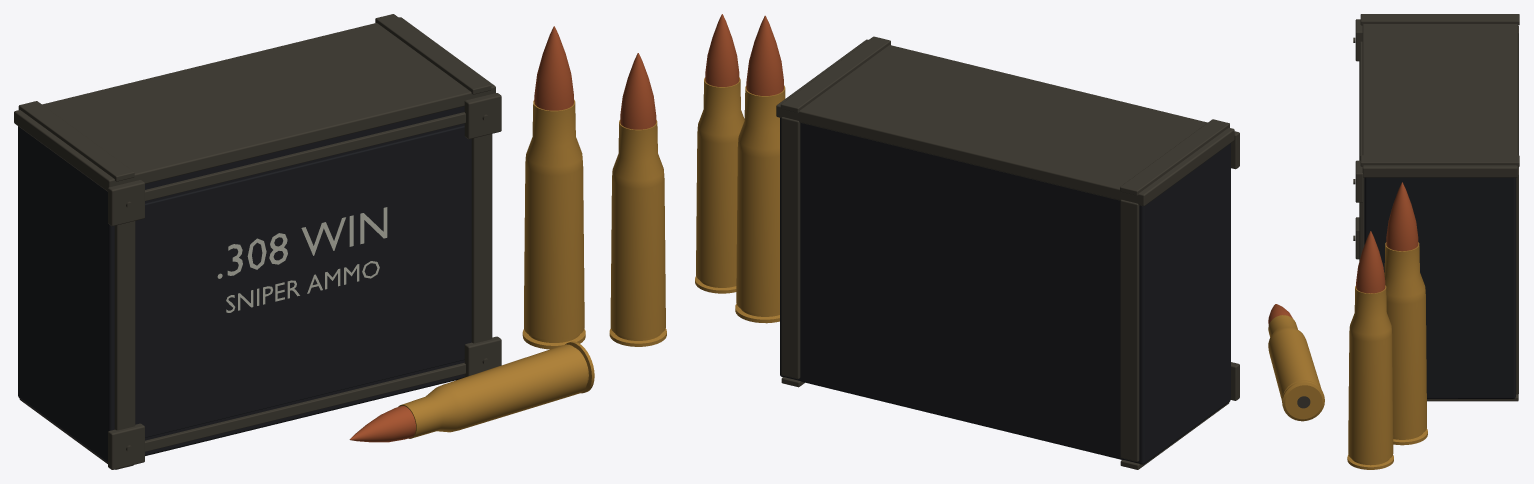
File: sniper_rounds.glb
3 views of the same model, side by side, from view 1: azimuth 30°, elevation 25°; view 2: azimuth 150°, elevation 25°; view 3: azimuth 270°, elevation 25° (orthographic). The views are drawn at different scales.
Visible parts, largest first — view 1: Inset front panel_export, Separate lid_export, Box body_export, Tall round brass case_export, Second round brass case_export, Resting round brass case_export, Front vertical reinforcement_export, Front vertical reinforcement.001_export, Front horizontal rim_export, Front horizontal rim.001_export, Tall round pointed projectile_export, Top strap.001_export (+9 smaller); view 2: Box body_export, Separate lid_export, Tall round brass case_export, Second round brass case_export, Rear vertical reinforcement_export, Rear vertical reinforcement.001_export, Tall round pointed projectile_export, Top strap.001_export, Top strap_export, Second round pointed projectile_export; view 3: Box body_export, Separate lid_export, Second round brass case_export, Tall round brass case_export, Resting round brass case_export, Top strap.001_export, Top strap_export, Tall round pointed projectile_export, Second round pointed projectile_export, Rear vertical reinforcement.001_export, Front vertical reinforcement.001_export, Corner cap.003_export (+2 smaller).
Boxes of the visible parts, box(x1,y1,x2,y2) form: Inset front panel_export: box(135, 125, 471, 437); Separate lid_export: box(14, 17, 495, 191); Box body_export: box(18, 106, 492, 462); Tall round brass case_export: box(522, 99, 585, 349); Second round brass case_export: box(609, 120, 666, 346); Resting round brass case_export: box(398, 341, 594, 438); Front vertical reinforcement_export: box(114, 221, 135, 430); Front vertical reinforcement.001_export: box(471, 134, 491, 343); Front horizontal rim_export: box(145, 362, 465, 451); Front horizontal rim.001_export: box(145, 112, 465, 201); Tall round pointed projectile_export: box(534, 26, 573, 110); Top strap.001_export: box(375, 14, 491, 94); Box body_export: box(780, 118, 1230, 464); Separate lid_export: box(776, 39, 1234, 206); Tall round brass case_export: box(735, 85, 785, 323); Second round brass case_export: box(695, 77, 744, 293); Rear vertical reinforcement_export: box(1120, 199, 1139, 461); Rear vertical reinforcement.001_export: box(781, 117, 800, 379); Tall round pointed projectile_export: box(746, 15, 783, 95); Top strap.001_export: box(780, 36, 890, 113); Top strap_export: box(1120, 119, 1229, 195); Second round pointed projectile_export: box(705, 14, 739, 86); Box body_export: box(1364, 177, 1515, 398); Separate lid_export: box(1362, 24, 1517, 177); Second round brass case_export: box(1347, 285, 1393, 469); Tall round brass case_export: box(1384, 242, 1427, 445); Resting round brass case_export: box(1268, 315, 1324, 421); Top strap.001_export: box(1360, 155, 1519, 166); Top strap_export: box(1360, 14, 1519, 25); Tall round pointed projectile_export: box(1386, 182, 1418, 251); Second round pointed projectile_export: box(1356, 231, 1385, 293); Rear vertical reinforcement.001_export: box(1516, 167, 1518, 394); Front vertical reinforcement.001_export: box(1359, 177, 1364, 260); Corner cap.003_export: box(1355, 160, 1363, 202).
Bounding box in the file's own units: 0.4165 × 0.222 × 0.1992.
